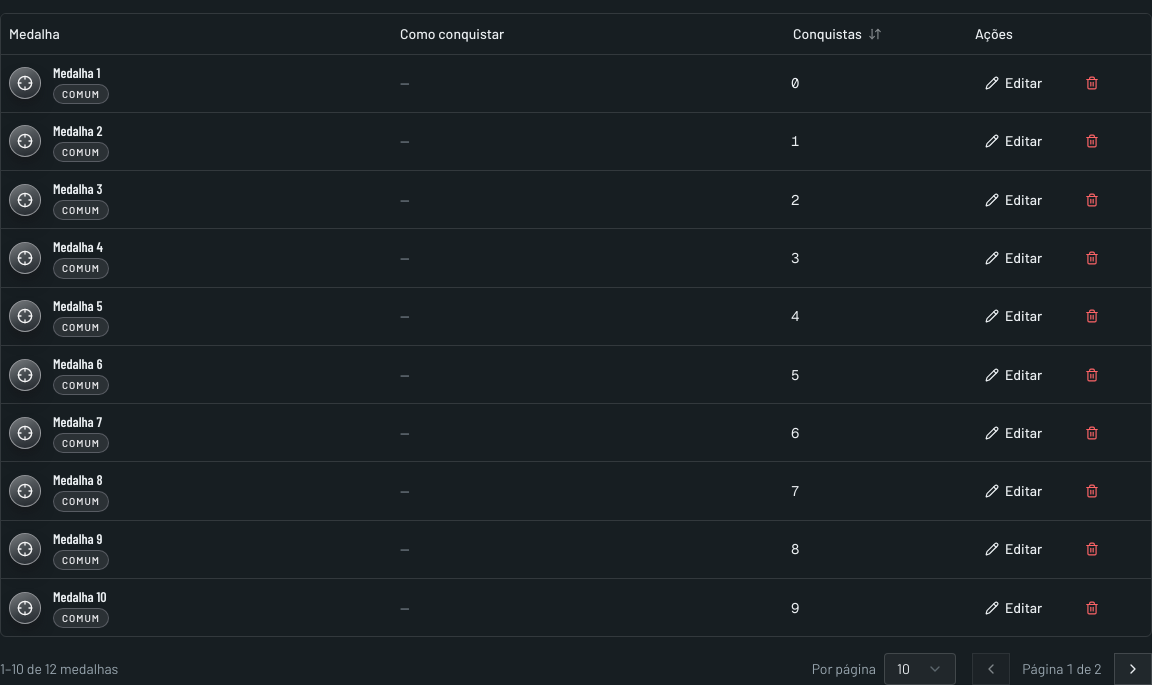
Test: MedalsManager › walks between pages
This screenshot has width=1152, height=685.
Expected: the text "Página 1 de 2" is shown, top-left (1022, 660), bottom-right (1102, 677)
Expected: the button named "Página anterior" is disabled, top-left (972, 653), bottom-right (1010, 684)
Click the button named "Próxima página".
click(1133, 669)  # box top-left (1114, 653), bottom-right (1151, 684)
(page scrolled)
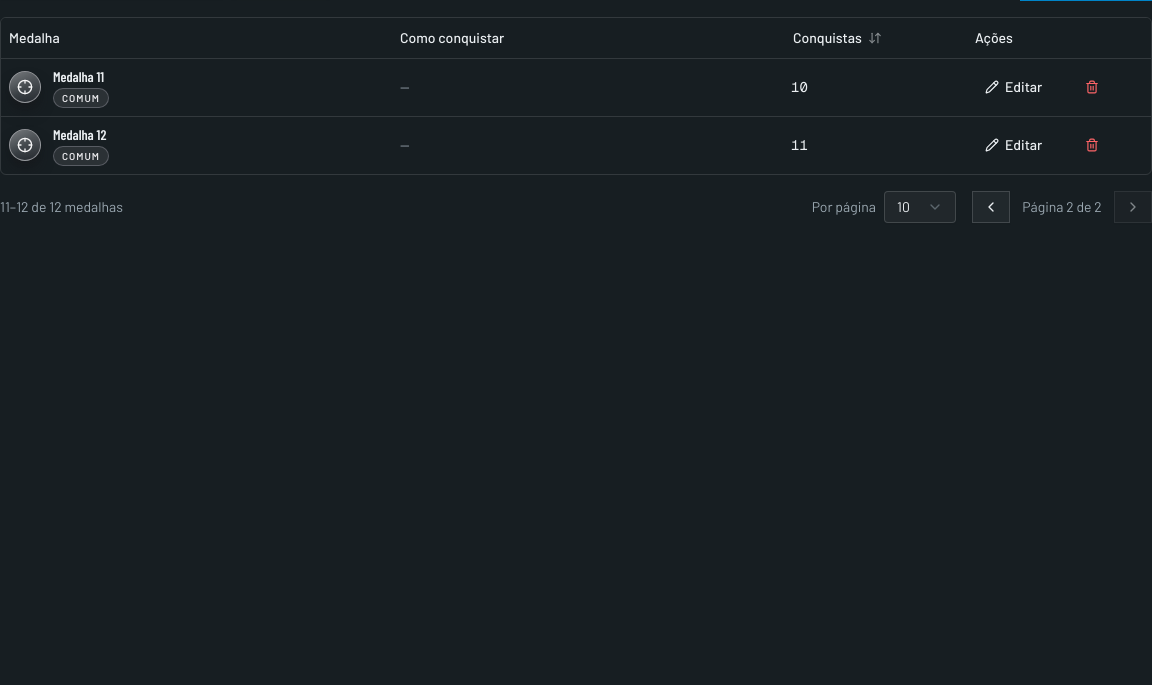
Expected: the button named "Próxima página" is disabled, top-left (1114, 191), bottom-right (1151, 223)
Expected: the text "11–12 de 12 medalhas" is shown, top-left (0, 197), bottom-right (123, 217)
